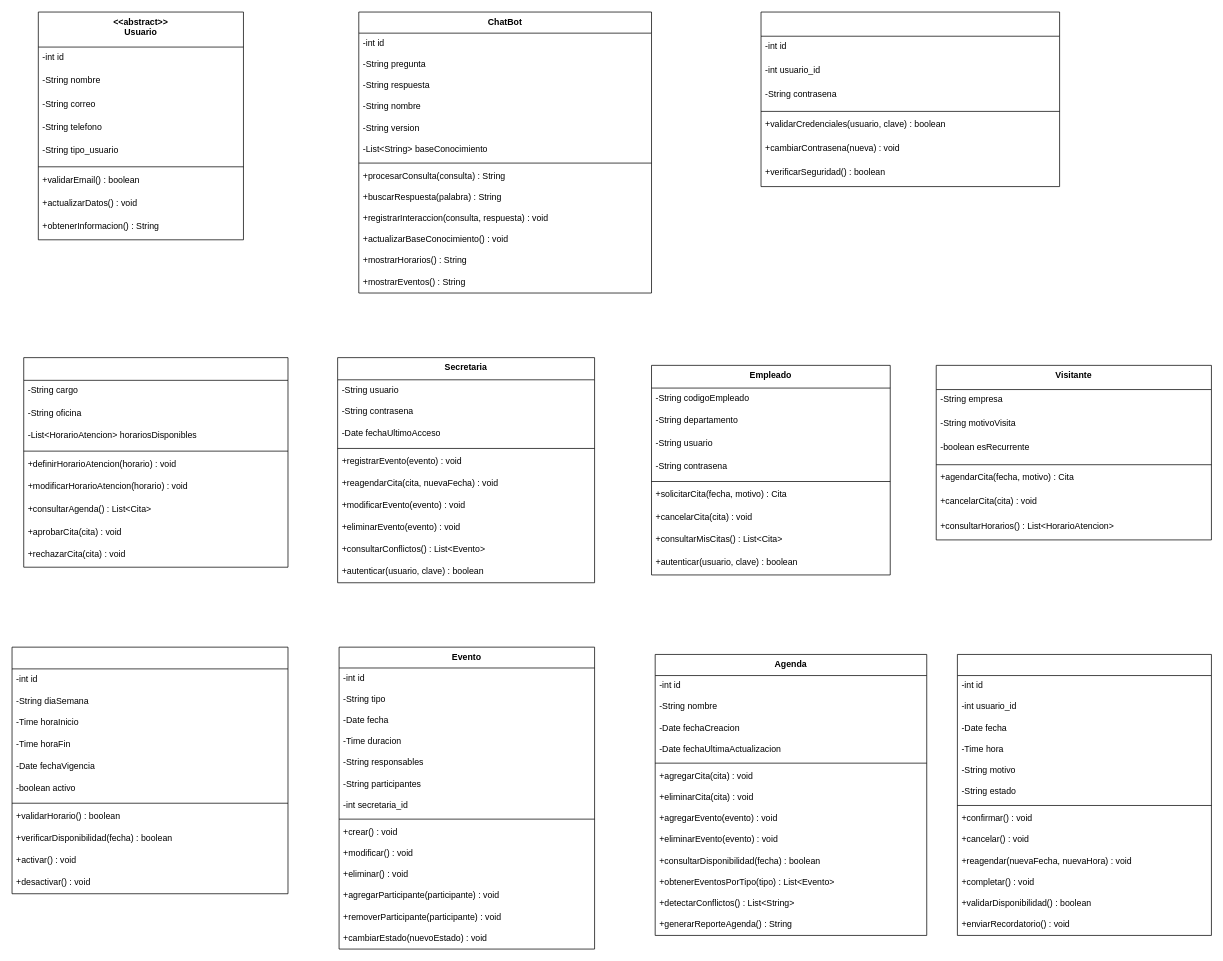
Image size: 1223x961. Some labels were removed from this diagram. Each missing label, with the box of its shape:
Autenticacion: (760, 11, 1060, 187)
Cita: (957, 654, 1211, 935)
Gerente: (23, 357, 288, 567)
HorarioAtencion: (11, 646, 288, 894)
